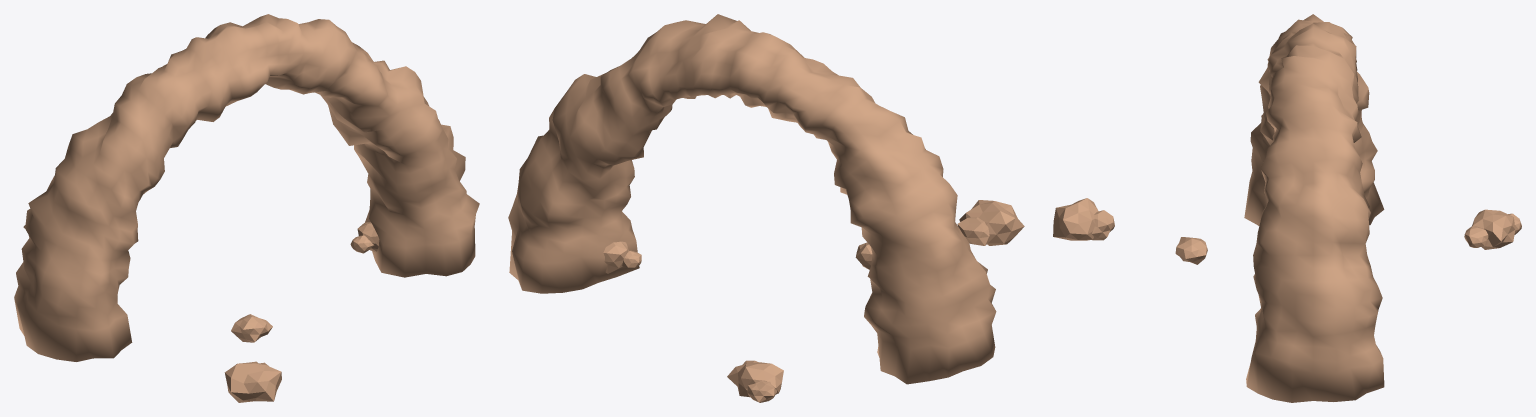
The model's file is POI_TarnVeth_Arch.fbx.
The picture shows the model from 3 angles, left to right: view 1: azimuth 30°, elevation 25°; view 2: azimuth 150°, elevation 25°; view 3: azimuth 270°, elevation 25°; orthographic projection. The views are drawn at different scales.
Parts seen in each view (by area): view 1: POI_Arch_Rock, POI_Arch; view 2: POI_Arch_Rock, POI_Arch; view 3: POI_Arch_Rock, POI_Arch.
Part boxes in pixels (left/top/right/bottom): POI_Arch_Rock: left=14, top=14, right=479, bottom=361; POI_Arch: left=23, top=222, right=379, bottom=402; POI_Arch_Rock: left=508, top=14, right=996, bottom=384; POI_Arch: left=603, top=200, right=1024, bottom=402; POI_Arch_Rock: left=1244, top=14, right=1384, bottom=402; POI_Arch: left=1053, top=198, right=1521, bottom=264.
Bounding box in the file's own units: 152 × 87.84 × 140.
